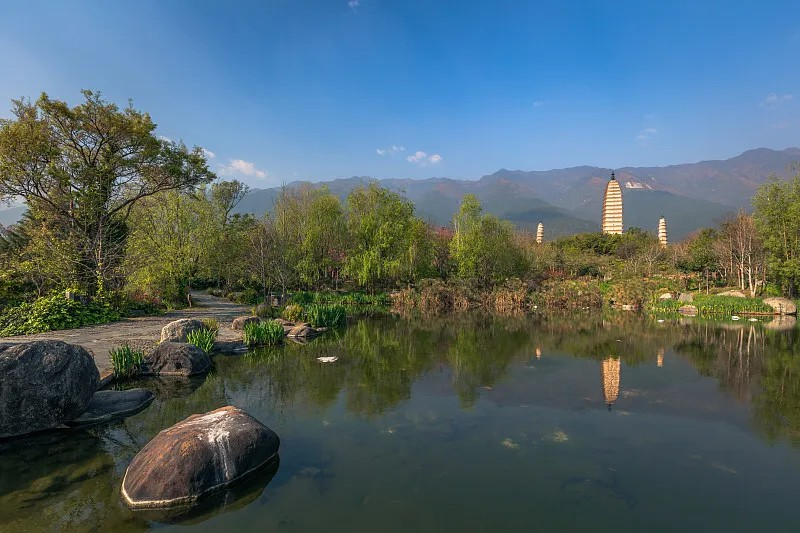ThreePagoda: (601, 172, 623, 234)
